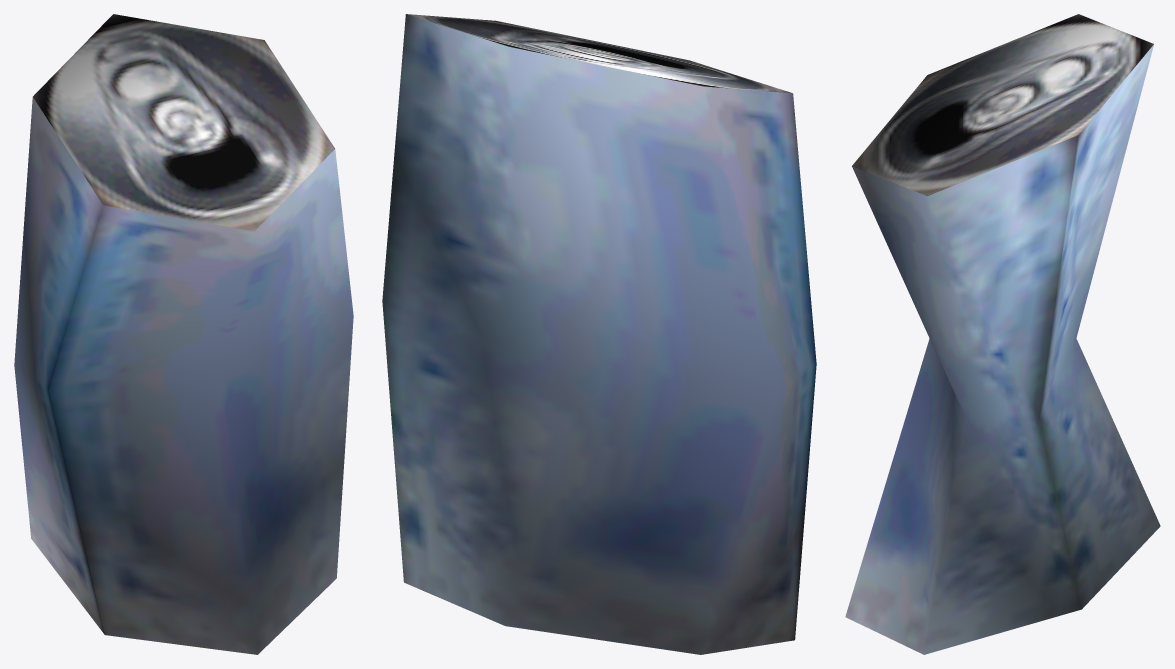
Rendered from can_7_crushed.glb.
3 views of the same model, side by side, from view 1: azimuth 30°, elevation 25°; view 2: azimuth 150°, elevation 25°; view 3: azimuth 270°, elevation 25° (orthographic). The views are drawn at different scales.
Parts seen in each view (by area): view 1: Can_7_Crushed; view 2: Can_7_Crushed; view 3: Can_7_Crushed.
Boxes of the visible parts, x1,y1,x2,y2 form: Can_7_Crushed: [14, 14, 353, 654]; Can_7_Crushed: [382, 14, 816, 654]; Can_7_Crushed: [845, 14, 1160, 654].
Size of the model in its own units: 0.2572 by 0.4314 by 0.2153.
1 material, 1 textured.
